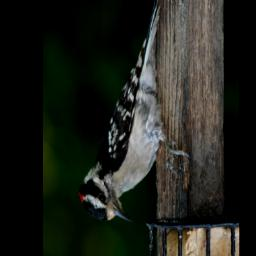Woodpecker: (79, 0, 189, 223)
